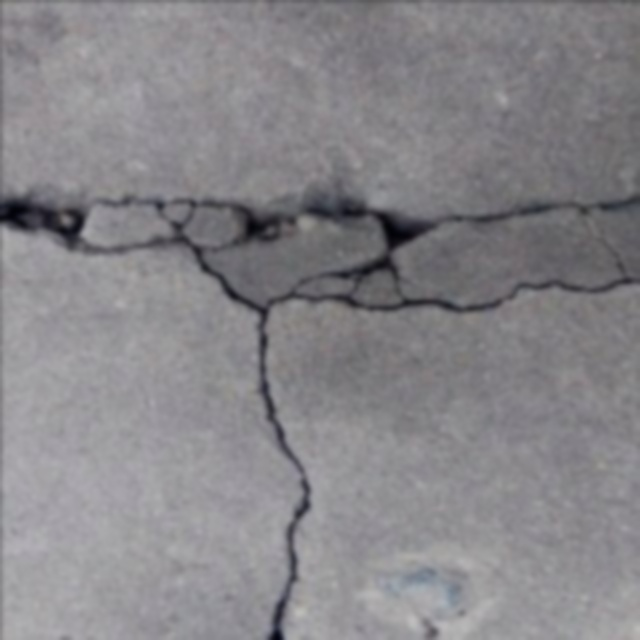SurfaceCrack: (208, 252, 376, 640)
